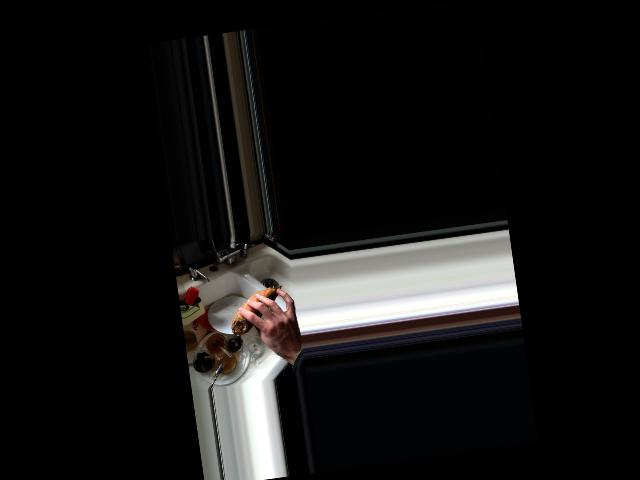sweet_potato: (228, 285, 288, 335)
